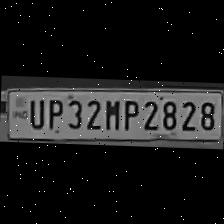2: (138, 96, 160, 132), (176, 96, 198, 132), (82, 95, 102, 131)
3: (64, 95, 82, 130)
8: (196, 97, 216, 132), (158, 96, 178, 130)
M: (101, 96, 119, 130)
P: (44, 95, 64, 131), (118, 96, 138, 132)
U: (24, 96, 44, 130)
